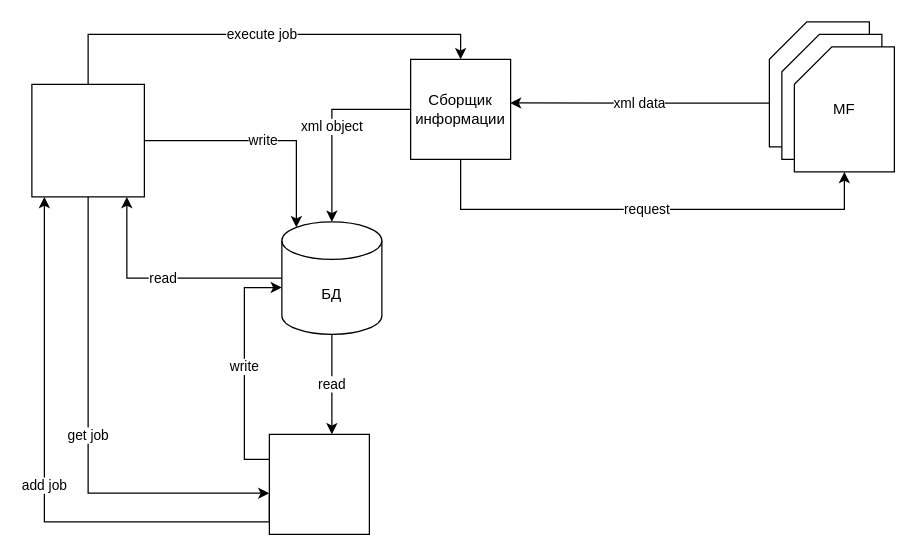
This 916x556 diagram has some shape labels left out. The shapes that lost their labels are listed below. From the top down, each one's centre as x and y in pixels, then its label:
point (87, 140): Планировщик
point (318, 483): веб сервер
